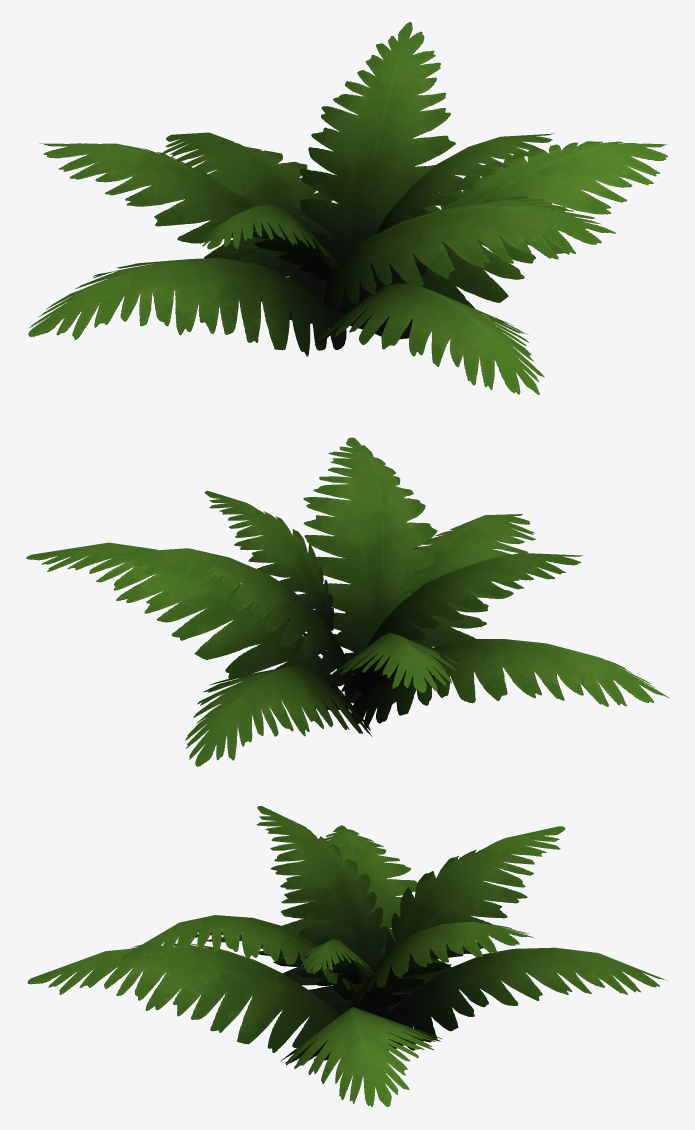
The model's file is Fern_1.gltf.
The picture shows the model from 3 angles, top to bottom: view 1: azimuth 30°, elevation 25°; view 2: azimuth 150°, elevation 25°; view 3: azimuth 270°, elevation 25°; orthographic projection. The views are drawn at different scales.
Visible parts, largest first — view 1: Fern_1; view 2: Fern_1; view 3: Fern_1.
Boxes of the visible parts, bbox=[...] form: Fern_1: bbox=[28, 22, 667, 394]; Fern_1: bbox=[26, 437, 669, 766]; Fern_1: bbox=[27, 806, 667, 1106].
Size of the model in its own units: 2.83 by 0.8402 by 2.65.
1 material, 1 textured.
